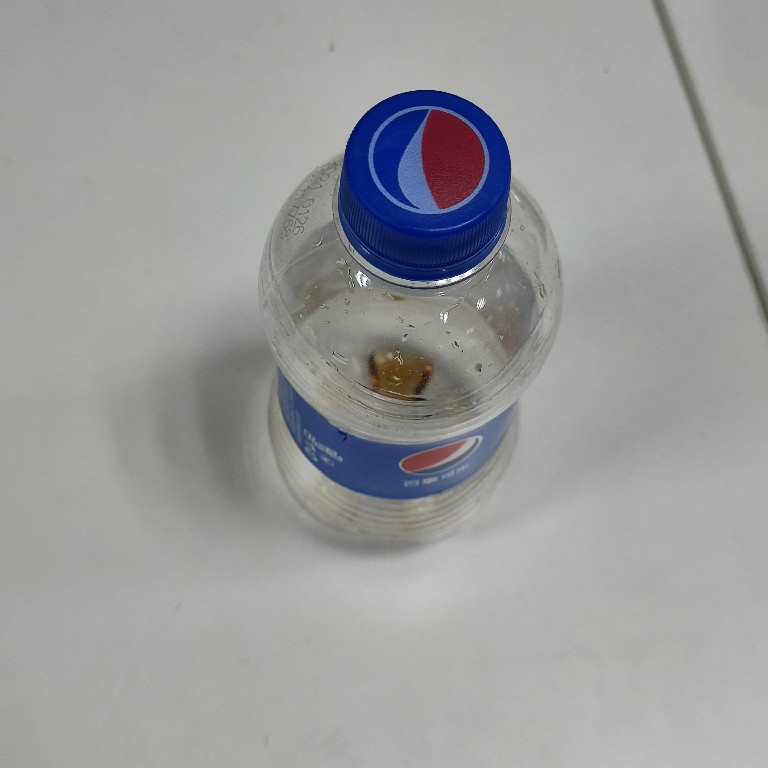bottle: (246, 82, 569, 554)
